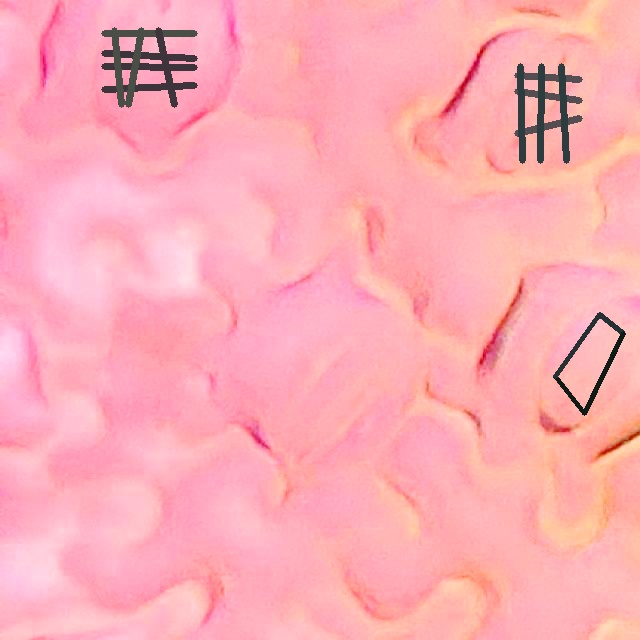close: (101, 27, 197, 107), (553, 312, 625, 415)
open: (514, 63, 582, 163)
